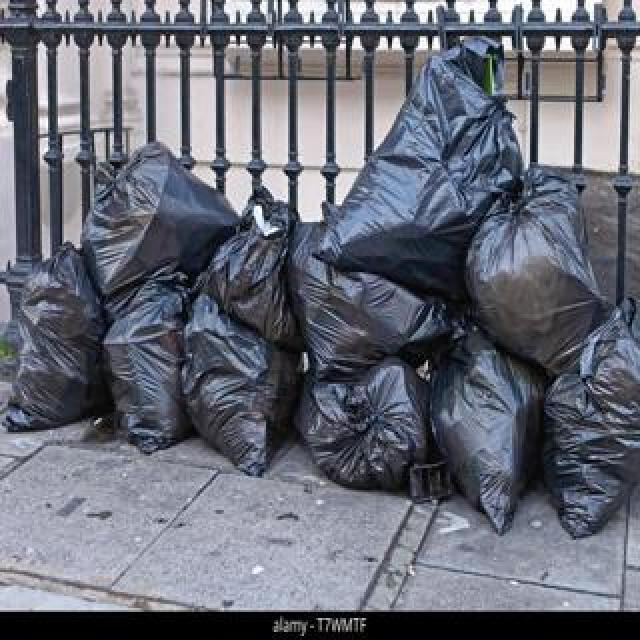high trash: (9, 41, 640, 537)
